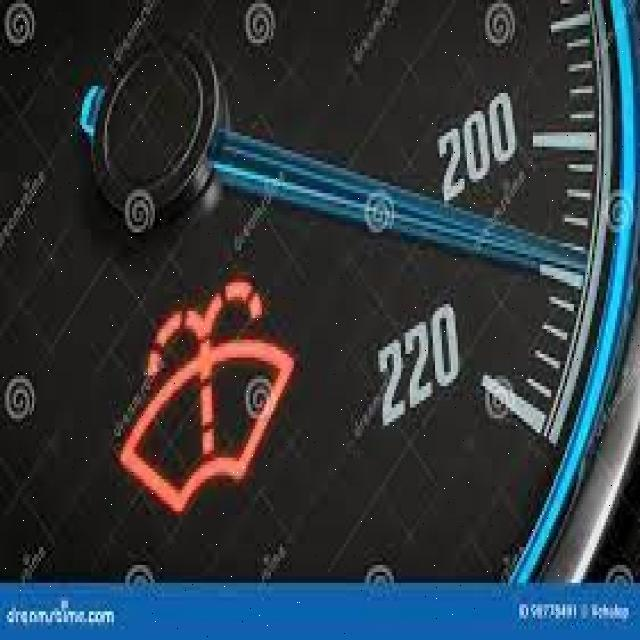Washer Fluid: (122, 279, 296, 510)
